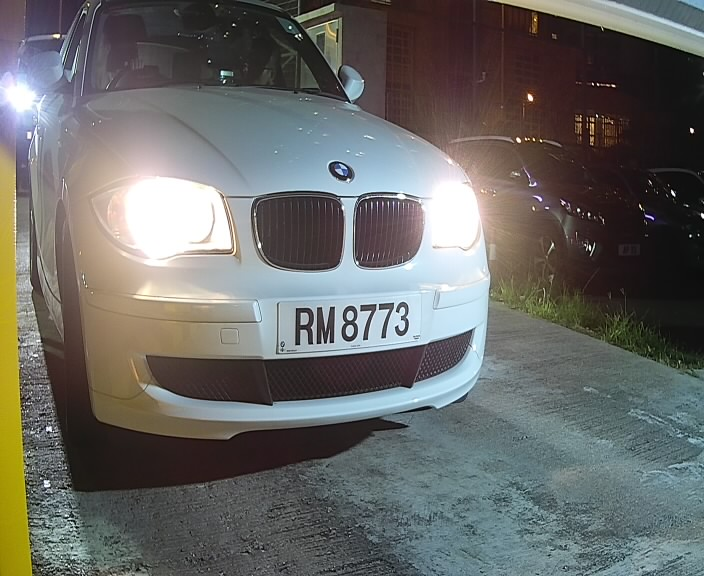Car: (16, 2, 501, 489)
License Plate: (269, 285, 429, 362)
